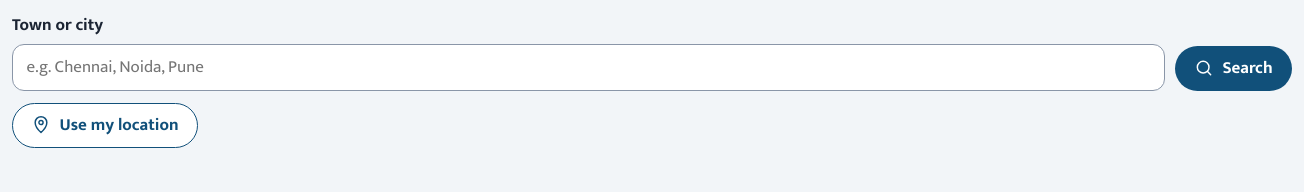
Test: PlaceSearch › searches only with two letters or more, and says when nothing matched
Type "N" into the search field labelled "Town or city". click: (589, 67)
box: [12,44,1165,91]
Then press Enter
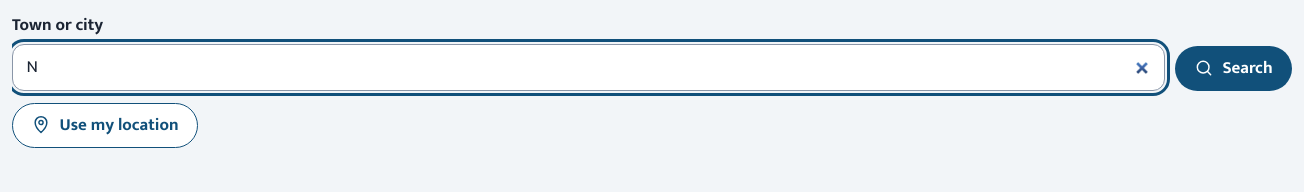
Type "owhere" into the search field labelled "Town or city". click: (589, 67)
box: [12,44,1165,91]
Then press Enter
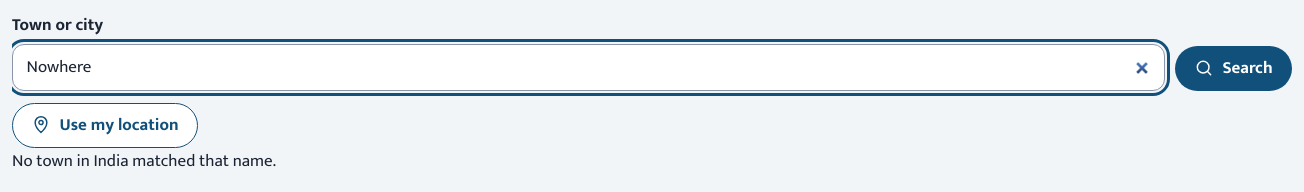
Check: the text "No town in India matched that name." is shown, box [12,147,276,175]
